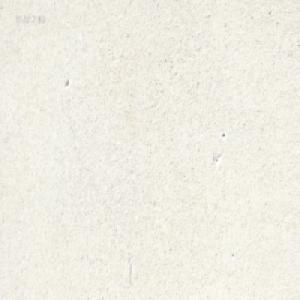Wrench: (117, 0, 123, 4)
